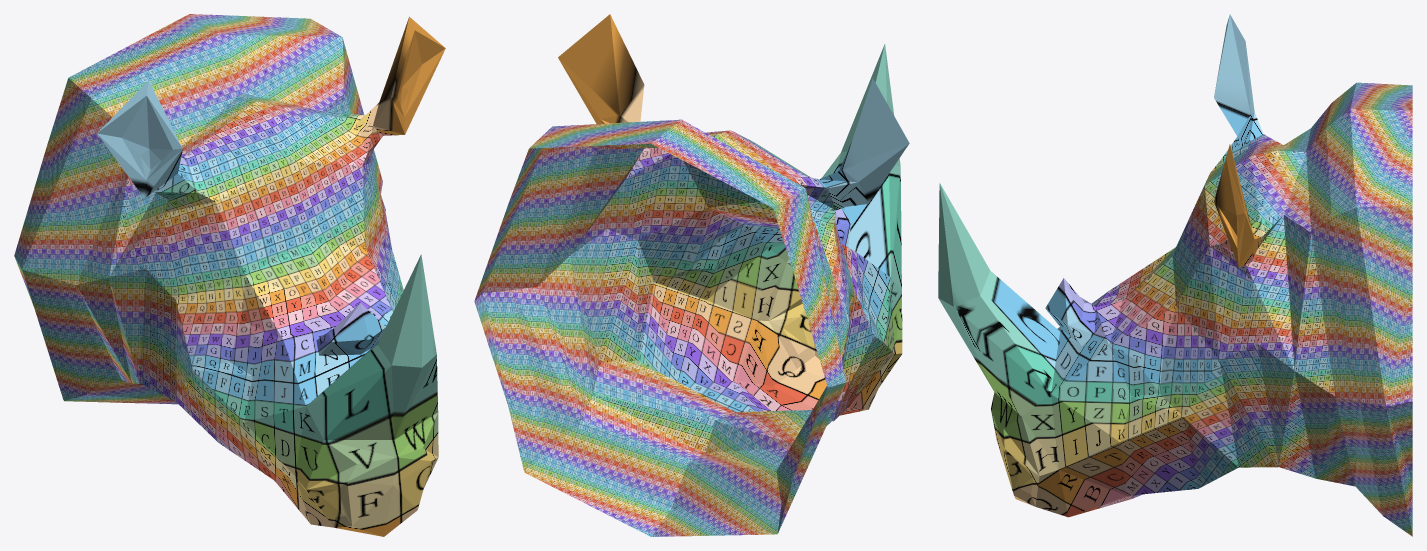
Rendered from rhino_low_poly_bff_in.obj.
3 views of the same model, side by side, from view 1: azimuth 30°, elevation 25°; view 2: azimuth 150°, elevation 25°; view 3: azimuth 270°, elevation 25° (orthographic). The views are drawn at different scales.
Bounding box in the file's own units: 5.09 × 5.68 × 5.69.
Materials: 1 (1 with a texture image).
